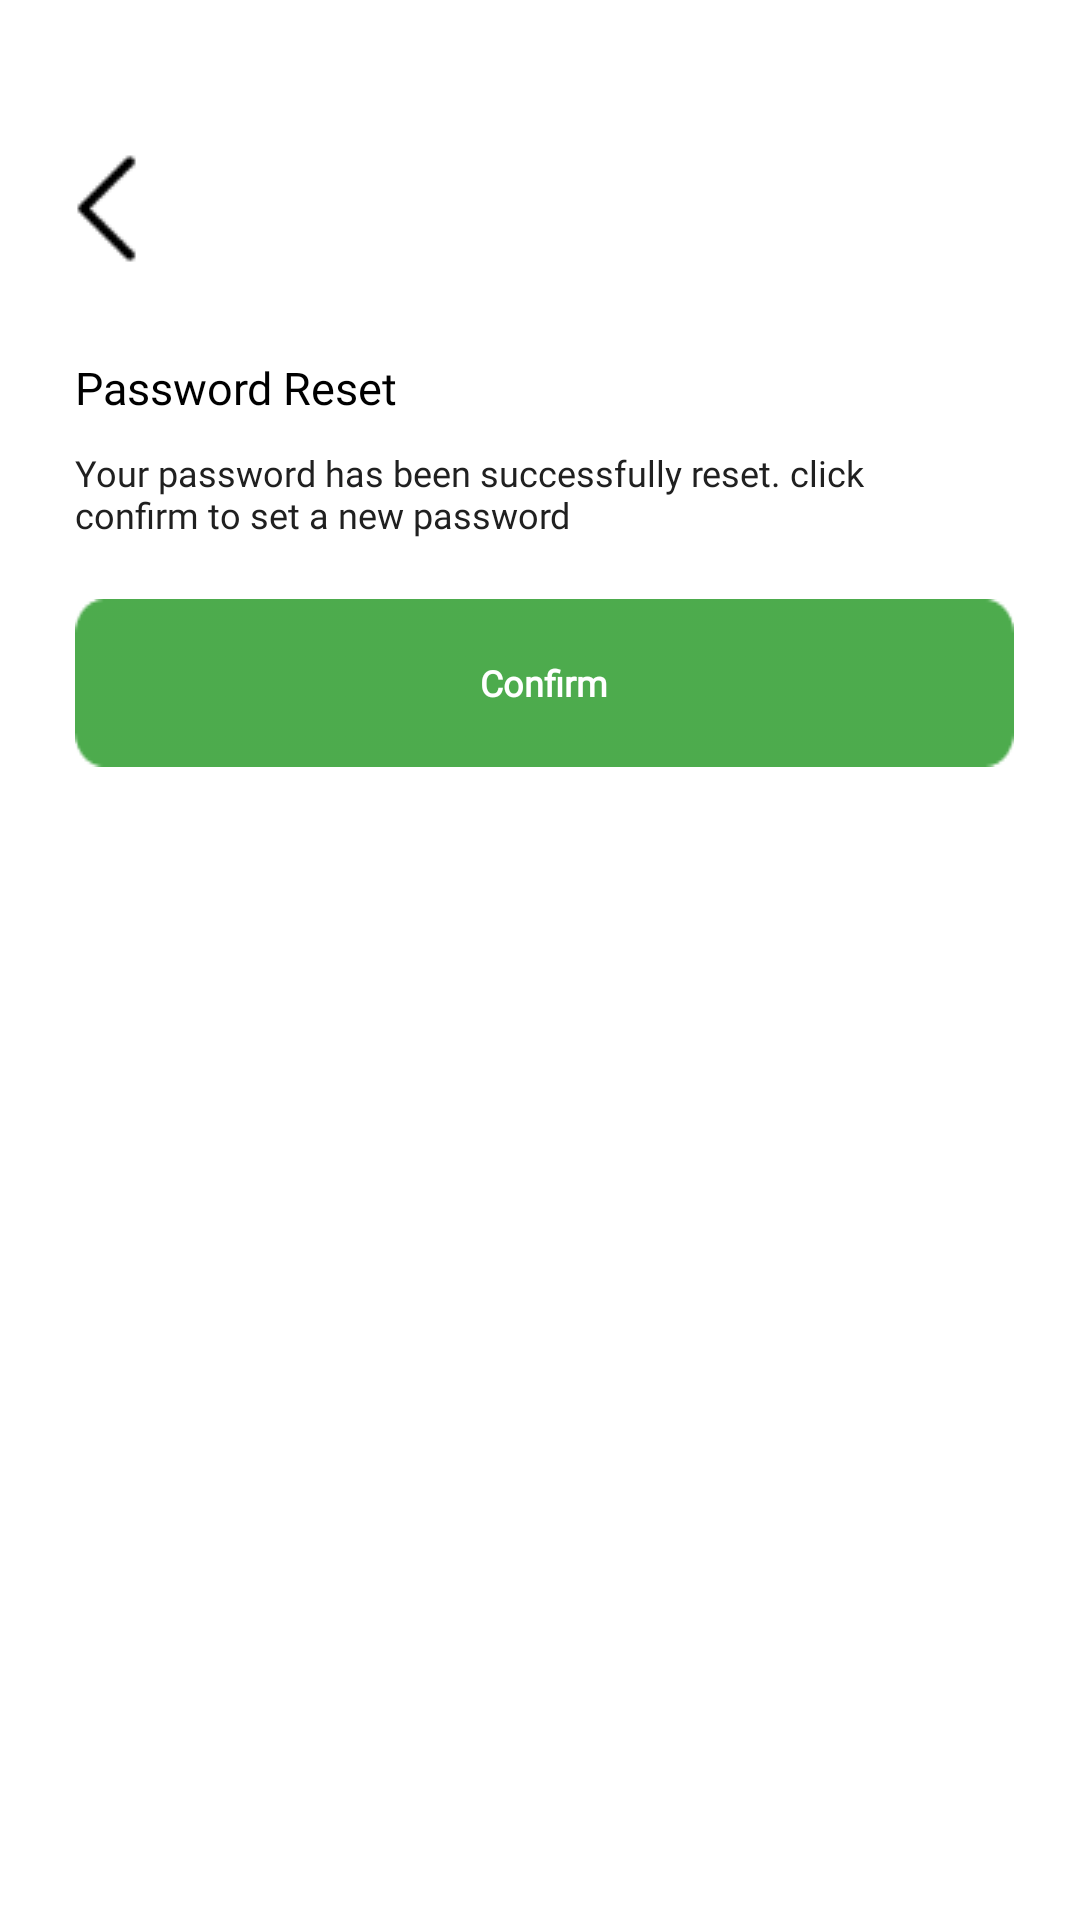

Icons on this 1080 × 1920 Android screen, each with the point to tap as (x=x, y=y):
back: (x=106, y=208)
